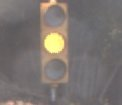Yellow: (32, 2, 76, 93)
